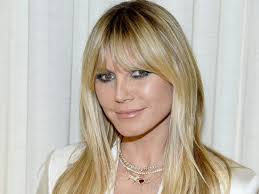white_female: (85, 43, 193, 142)
